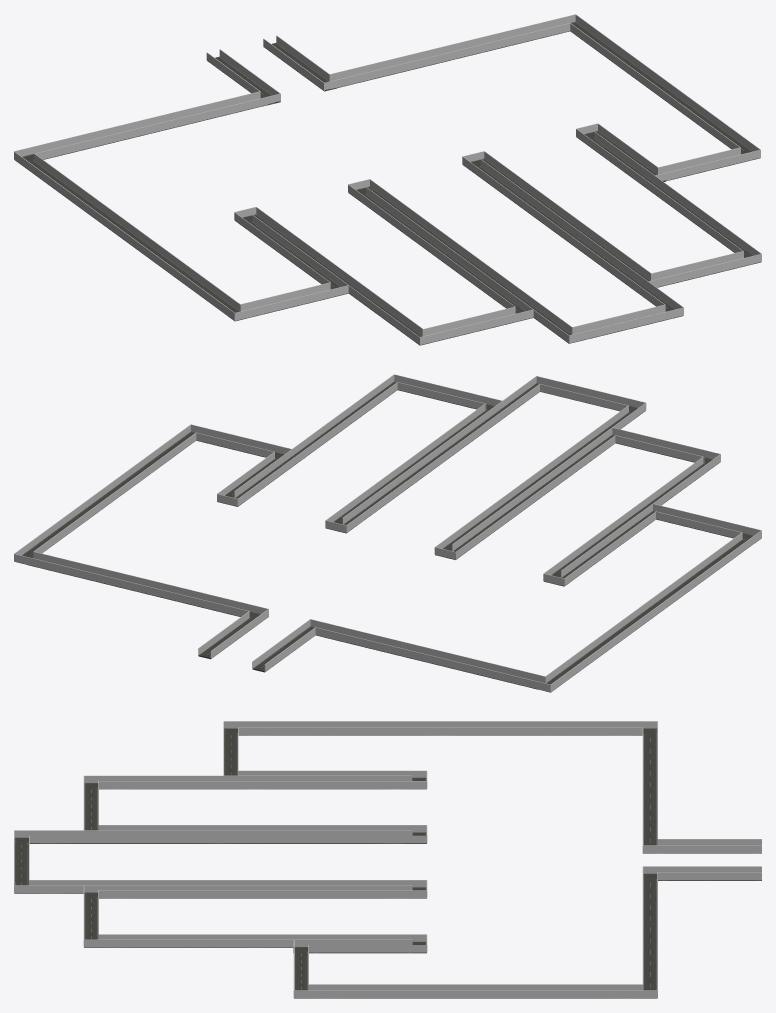
File: stage4_track.obj
The picture shows the model from 3 angles, top to bottom: view 1: azimuth 30°, elevation 25°; view 2: azimuth 150°, elevation 25°; view 3: azimuth 270°, elevation 25°; orthographic projection. The views are drawn at different scales.
Size of the model in its own units: 457 by 6.5 by 536.
